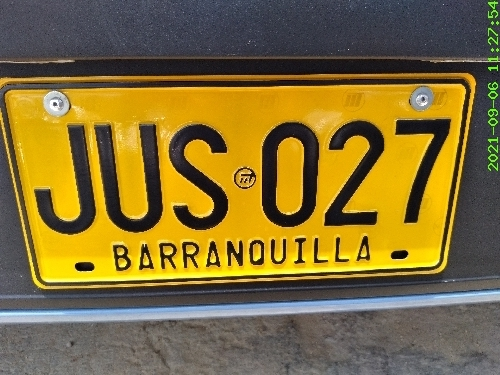number_plate: (2, 77, 482, 289)
